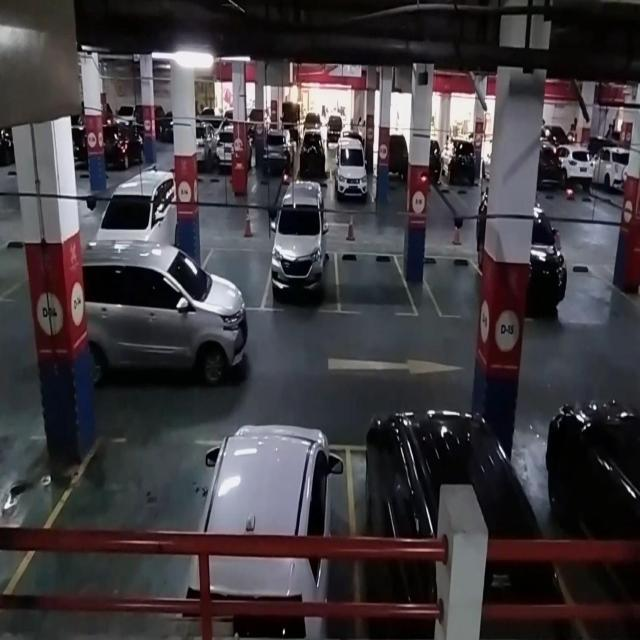empty: (31, 436, 204, 640), (336, 250, 418, 317), (202, 246, 268, 312), (423, 252, 481, 320)
occupied: (349, 413, 552, 640), (182, 423, 357, 640), (261, 183, 340, 316)
